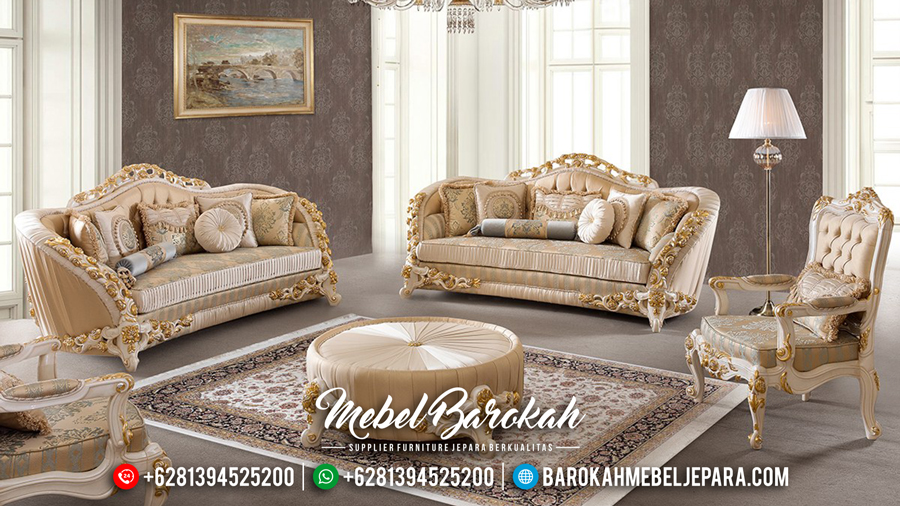Carving Chair: (42, 173, 361, 323), (409, 160, 697, 319), (709, 203, 885, 430)
Carving Table: (299, 323, 553, 446)
